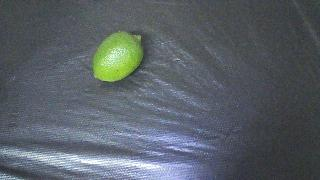LOCAL: (92, 31, 143, 82)
